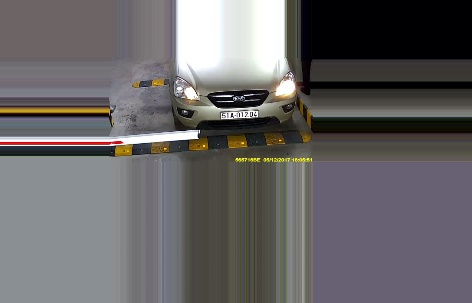plate: (219, 105, 261, 120)
